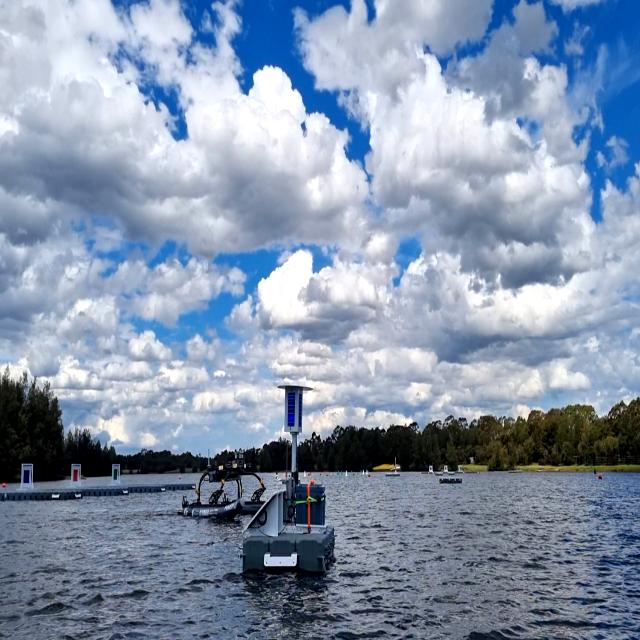led: (286, 390, 297, 429)
